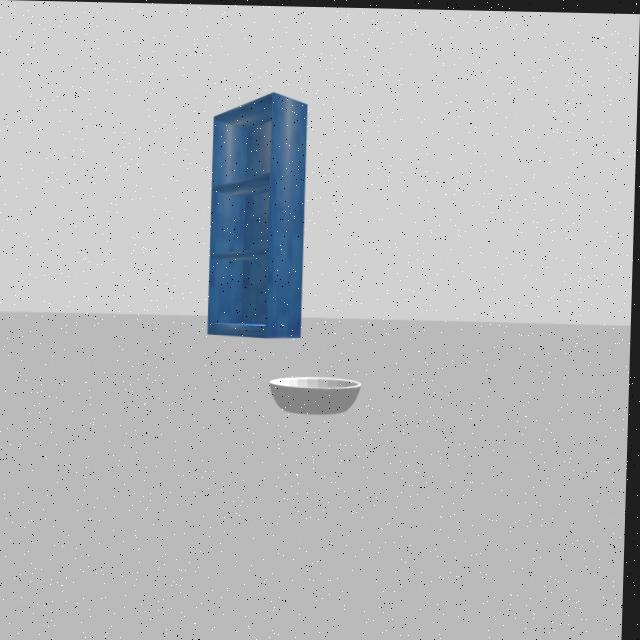bowl: (267, 360, 370, 431)
shelf: (191, 79, 330, 346)
